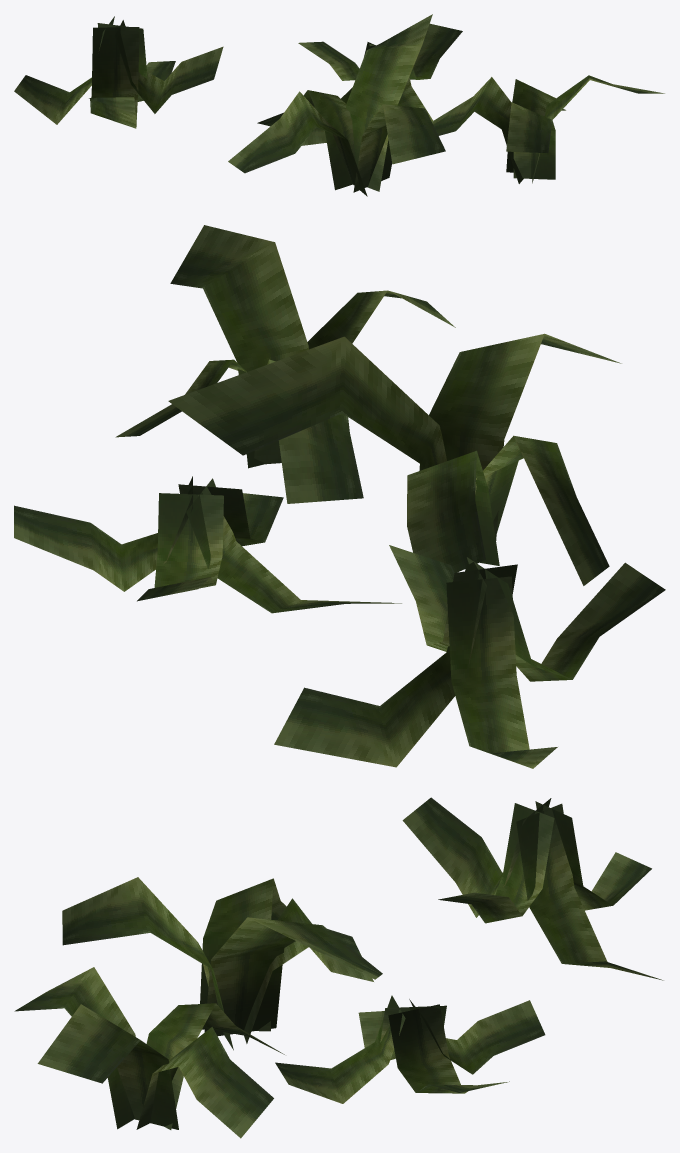
File: Grass05.obj
3 views of the same model, one above another, from view 1: azimuth 30°, elevation 25°; view 2: azimuth 150°, elevation 25°; view 3: azimuth 270°, elevation 25° (orthographic). The views are drawn at different scales.
Visible parts, largest first — view 1: Mesh_0; view 2: Mesh_0; view 3: Mesh_0.
Part boxes in pixels (box(x1,y1,x2,y2)): Mesh_0: box(14, 14, 664, 196); Mesh_0: box(14, 225, 665, 768); Mesh_0: box(14, 797, 663, 1138).
Size of the model in its own units: 3.24 by 0.873 by 3.19.
Materials: 1 (1 with a texture image).
